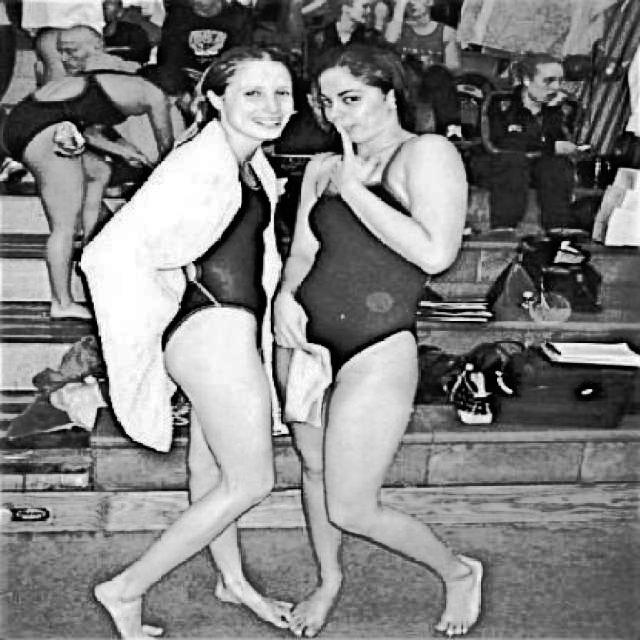Person: (277, 38, 494, 640), (96, 41, 302, 640), (7, 64, 200, 324), (480, 50, 588, 223)
